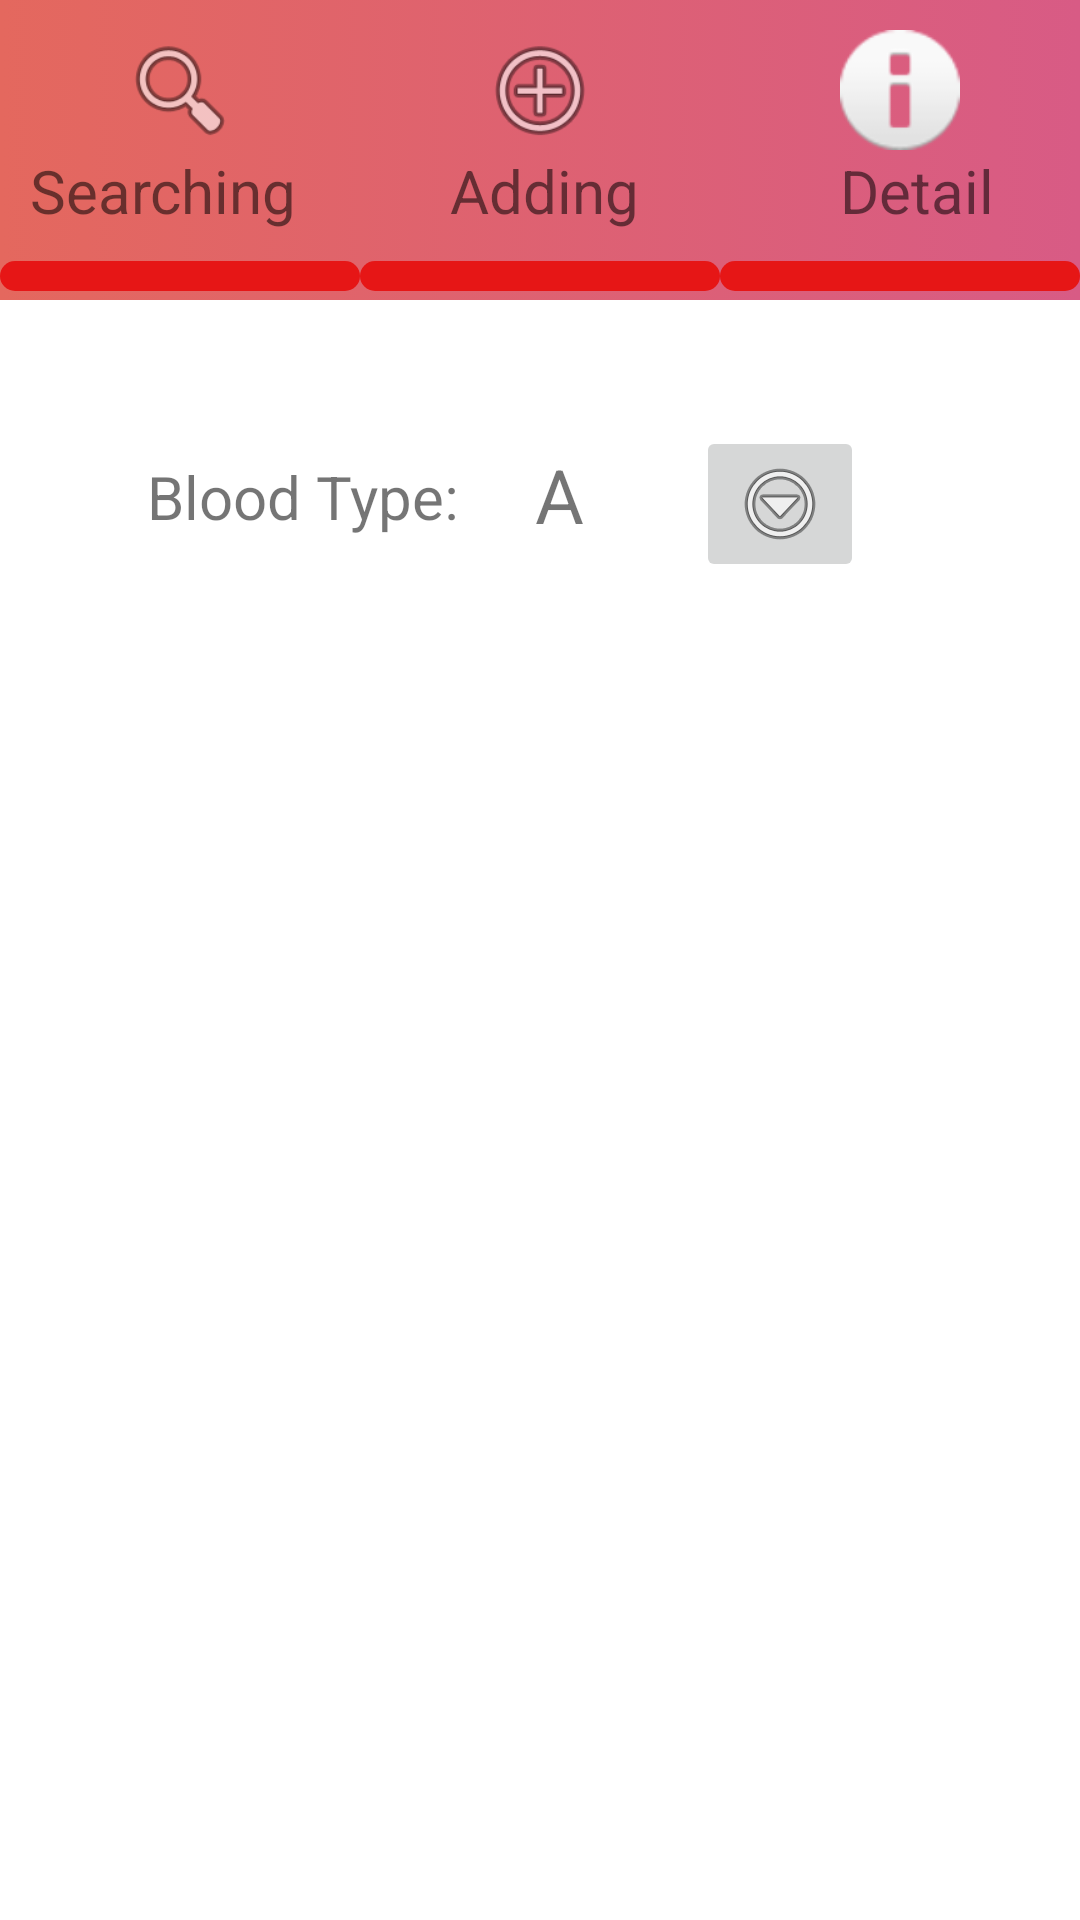

Screen size 1080×1920. Icon name, then its box in pixels as (x1, y1, x2, y2):
info: (840, 30, 960, 150)
more: (708, 444, 852, 564)
